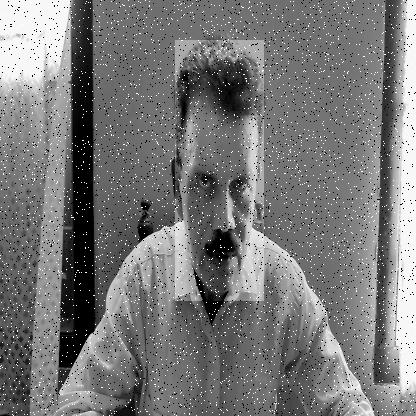Normal: (175, 40, 264, 301)
